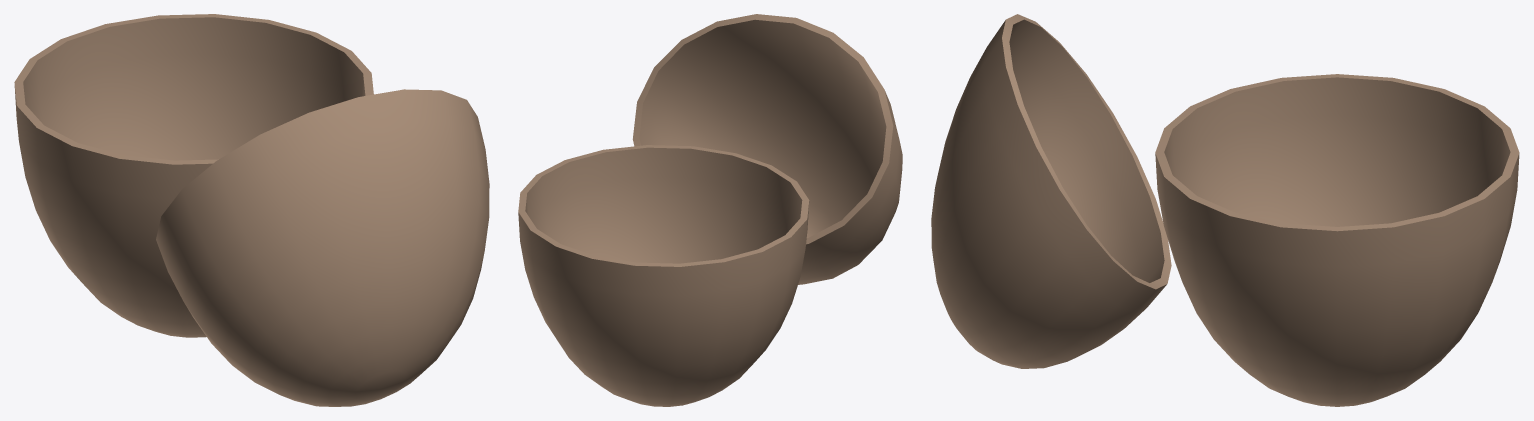
Rendered from EggBroken02.fbx.
The picture shows the model from 3 angles, left to right: view 1: azimuth 30°, elevation 25°; view 2: azimuth 150°, elevation 25°; view 3: azimuth 270°, elevation 25°; orthographic projection. The views are drawn at different scales.
Parts seen in each view (by area): view 1: polySurface2; view 2: polySurface2; view 3: polySurface2.
Boxes of the visible parts, x1,y1,x2,y2 form: polySurface2: (14,14,489,406); polySurface2: (518,14,902,406); polySurface2: (931,14,1519,406).
Size of the model in its own units: 4.2 by 4.45 by 6.64.
